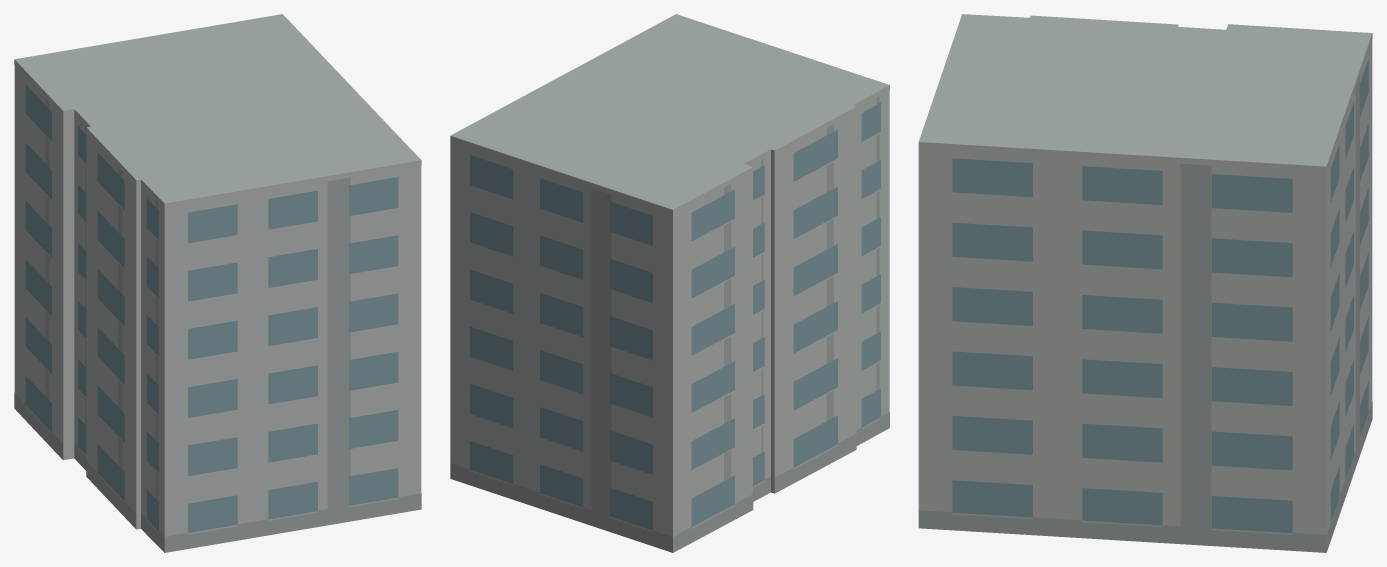
File: survey-upis-32820022.glb
3 views of the same model, side by side, from view 1: azimuth 30°, elevation 25°; view 2: azimuth 150°, elevation 25°; view 3: azimuth 270°, elevation 25° (orthographic). The views are drawn at different scales.
Visible parts, largest first — view 1: survey-upis-32820022.tmp; view 2: survey-upis-32820022.tmp; view 3: survey-upis-32820022.tmp.
Part boxes in pixels (bbox=[...]): survey-upis-32820022.tmp: bbox=[14, 14, 421, 552]; survey-upis-32820022.tmp: bbox=[450, 14, 889, 552]; survey-upis-32820022.tmp: bbox=[918, 14, 1372, 552].
Size of the model in its own units: 13.61 by 16.05 by 17.1.
